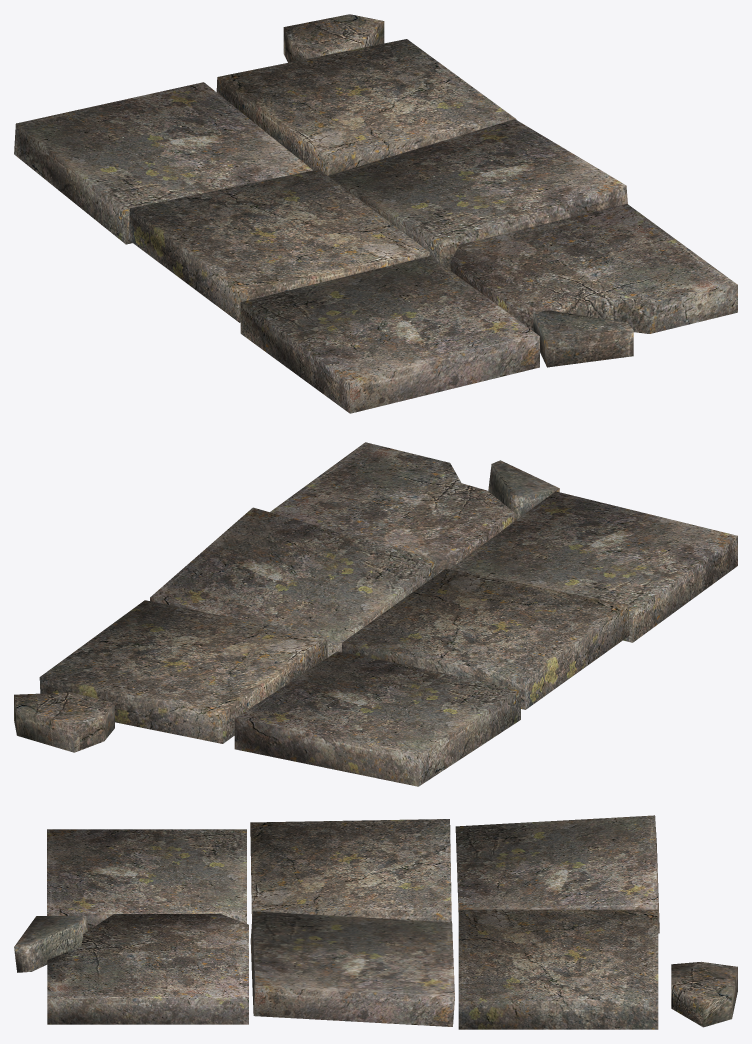
File: brick4.fbx
3 renders of one model, top to bottom at view 1: azimuth 30°, elevation 25°; view 2: azimuth 150°, elevation 25°; view 3: azimuth 270°, elevation 25°, orthographic. The views are drawn at different scales.
Visible parts, largest first — view 1: polySurface126; view 2: polySurface126; view 3: polySurface126.
Boxes of the visible parts, x1,y1,x2,y2 form: polySurface126: (14, 14, 737, 413); polySurface126: (14, 442, 737, 786); polySurface126: (14, 815, 737, 1029).
Size of the model in its own units: 3.88 by 0.5043 by 6.74.
